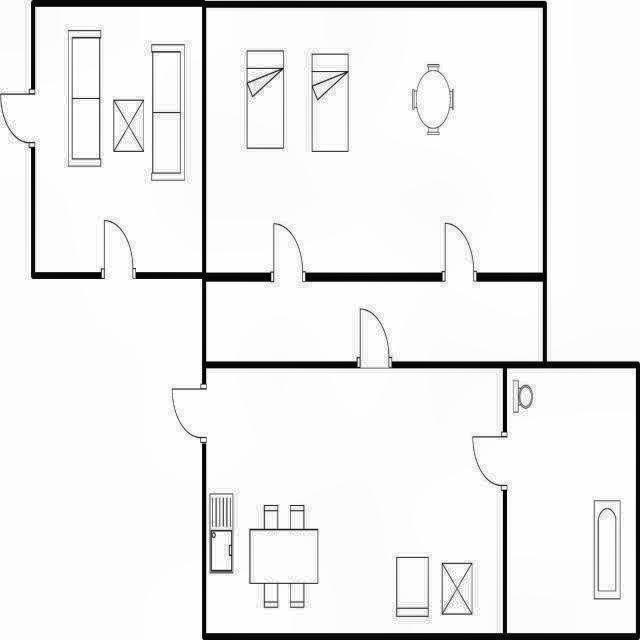room: (206, 8, 543, 272), (206, 368, 502, 632), (36, 7, 202, 272), (507, 370, 636, 632), (207, 283, 542, 361)
